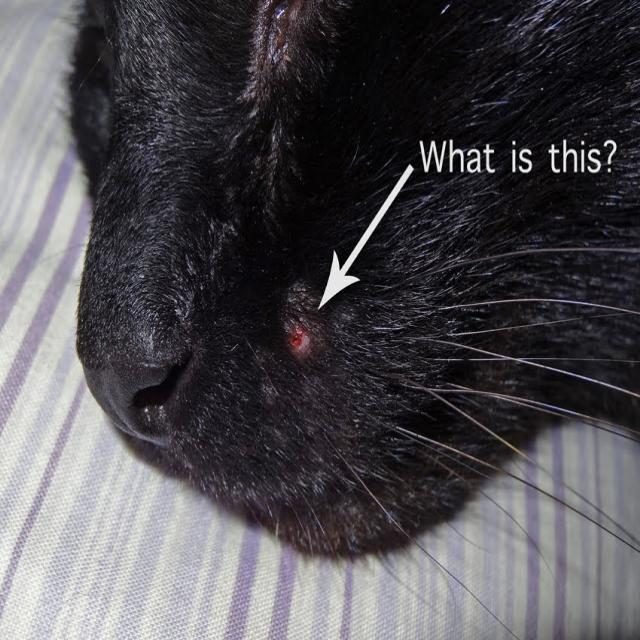cat-lump-and-bump: (284, 312, 314, 362)
